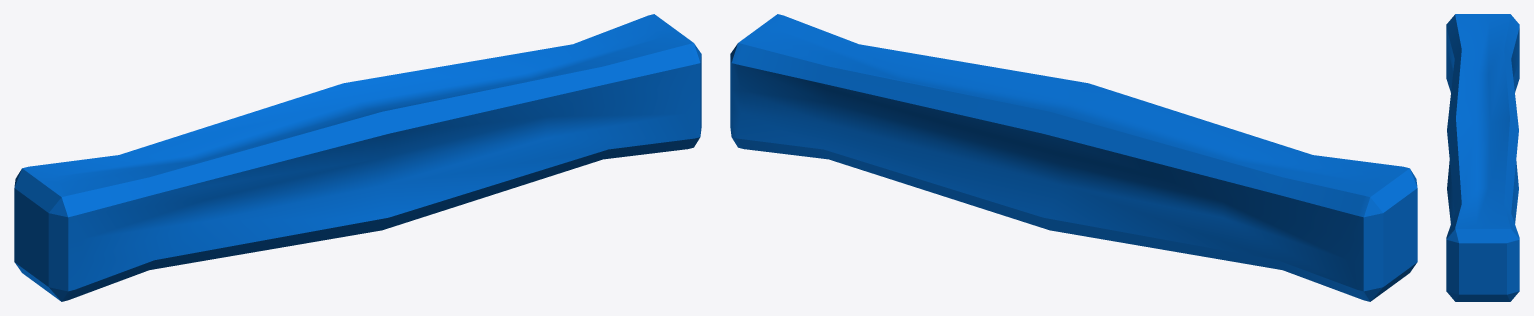
File: TopArm.fbx
3 renders of one model, left to right at view 1: azimuth 30°, elevation 25°; view 2: azimuth 150°, elevation 25°; view 3: azimuth 270°, elevation 25°, orthographic. The views are drawn at different scales.
Visible parts, largest first — view 1: Top_Arm; view 2: Top_Arm; view 3: Top_Arm.
Boxes of the visible parts, x1,y1,x2,y2 form: Top_Arm: [14, 14, 701, 301]; Top_Arm: [730, 14, 1417, 301]; Top_Arm: [1446, 14, 1519, 301].
Size of the model in its own units: 4.63 by 0.6463 by 0.8036.
